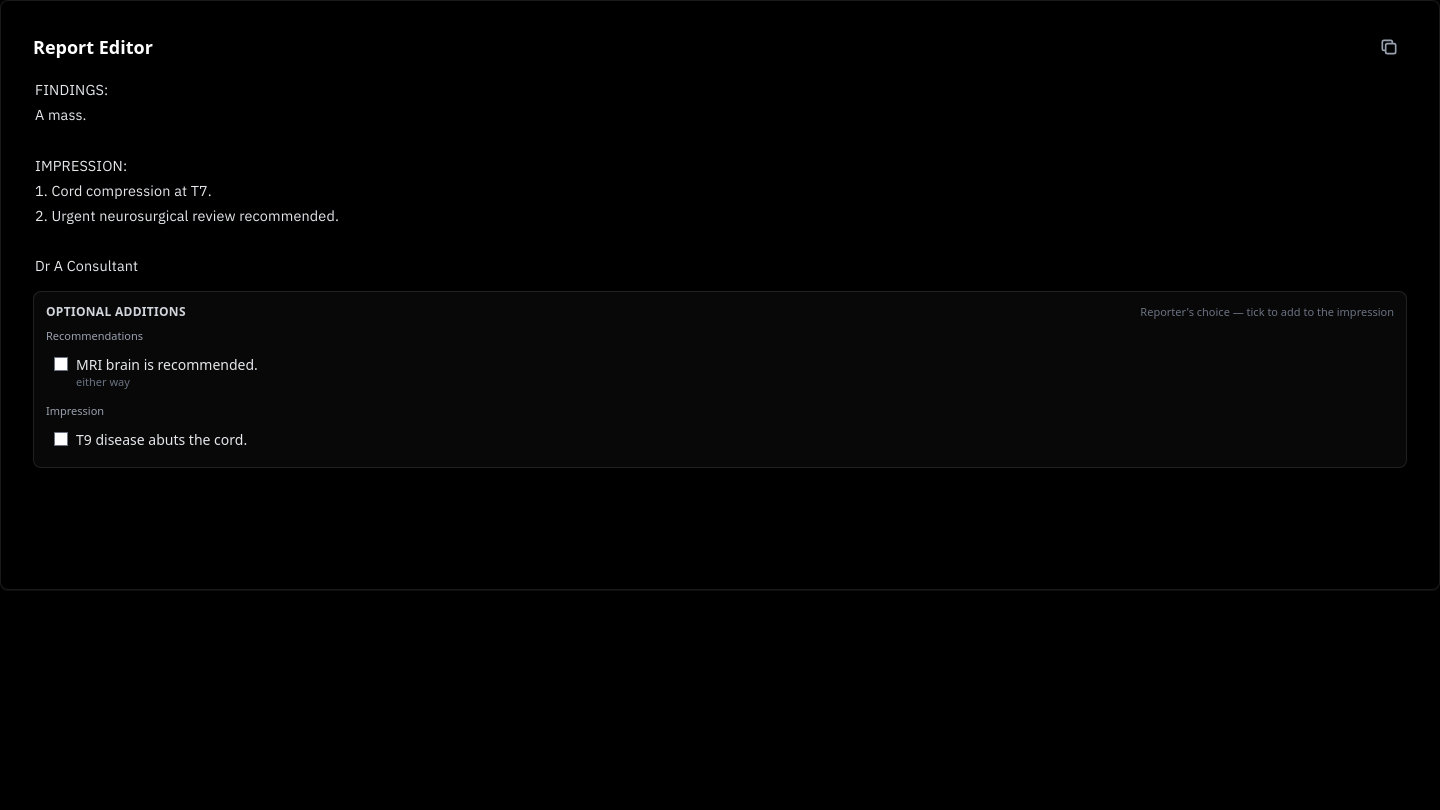
Scenario: optional additions in the report viewer › clears the unsaved-changes bar when ticking and unticking restores the report
Click the checkbox labelled "MRI brain is recommended. either way". click: (61, 364)
box: 54,357 -> 68,371
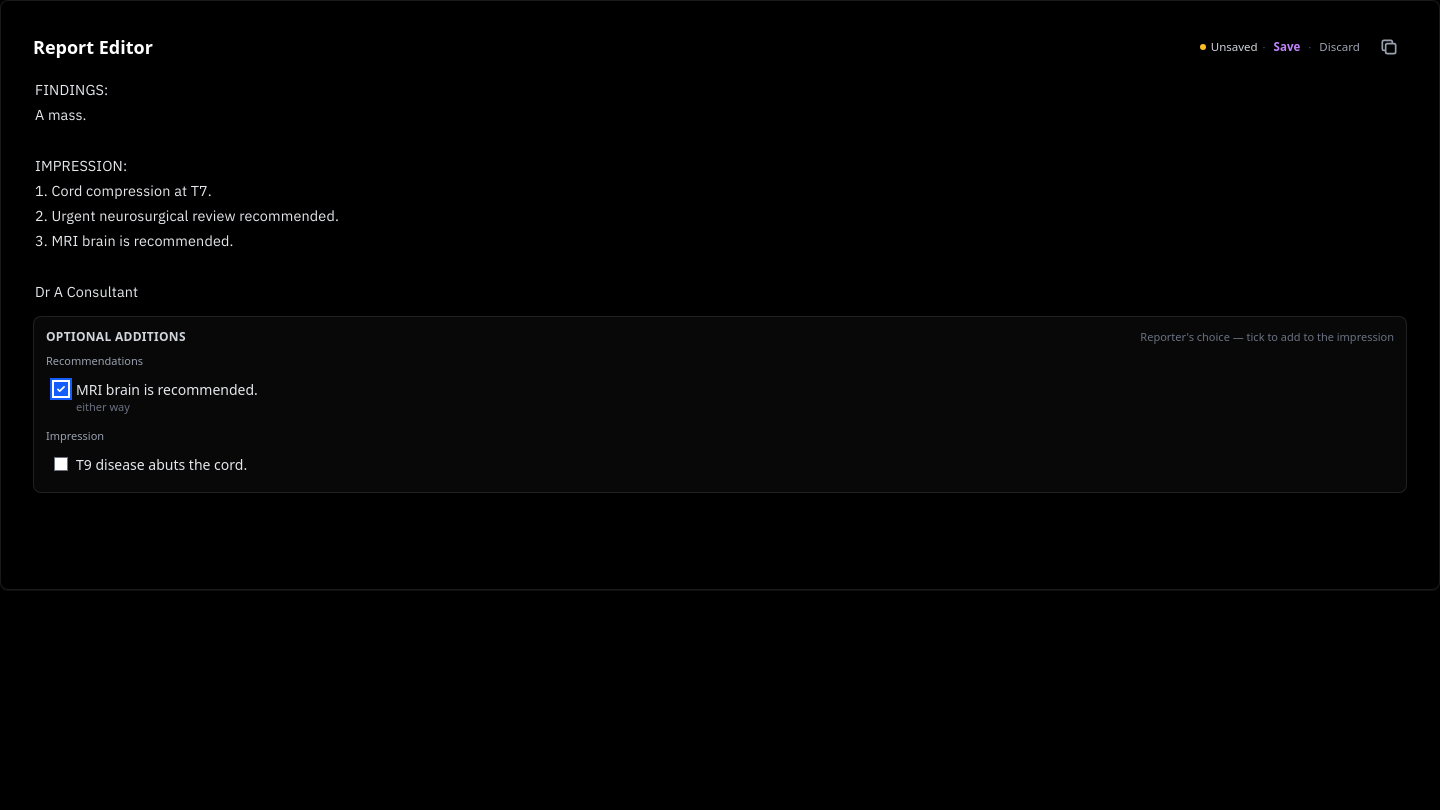
Check: the message "Unsaved · Save · Discard" is shown, box 1200,39 -> 1363,55
Click the checkbox labelled "MRI brain is recommended. either way". click: (61, 389)
box: 54,382 -> 68,396
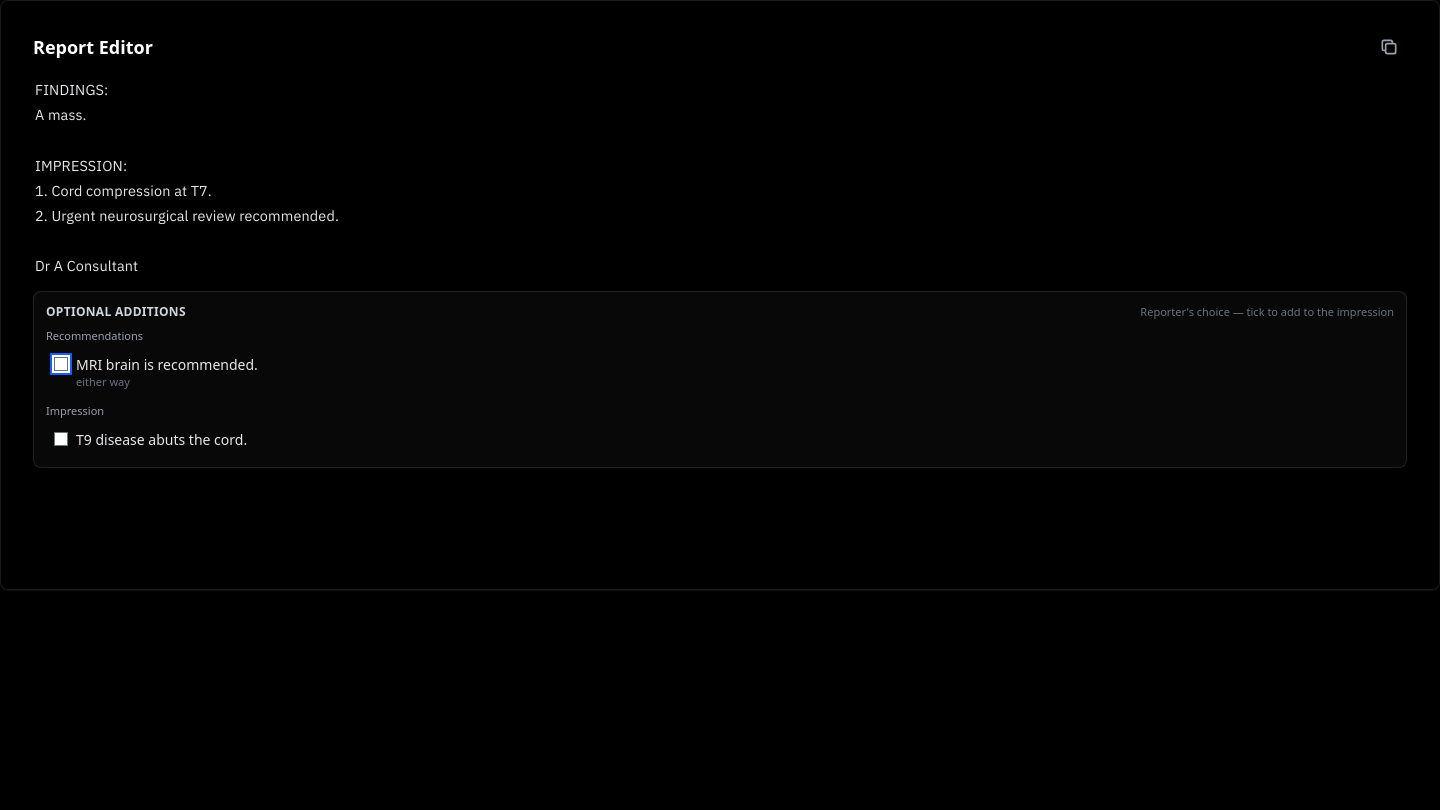
Check: the message with test id "unsaved-status" is gone
